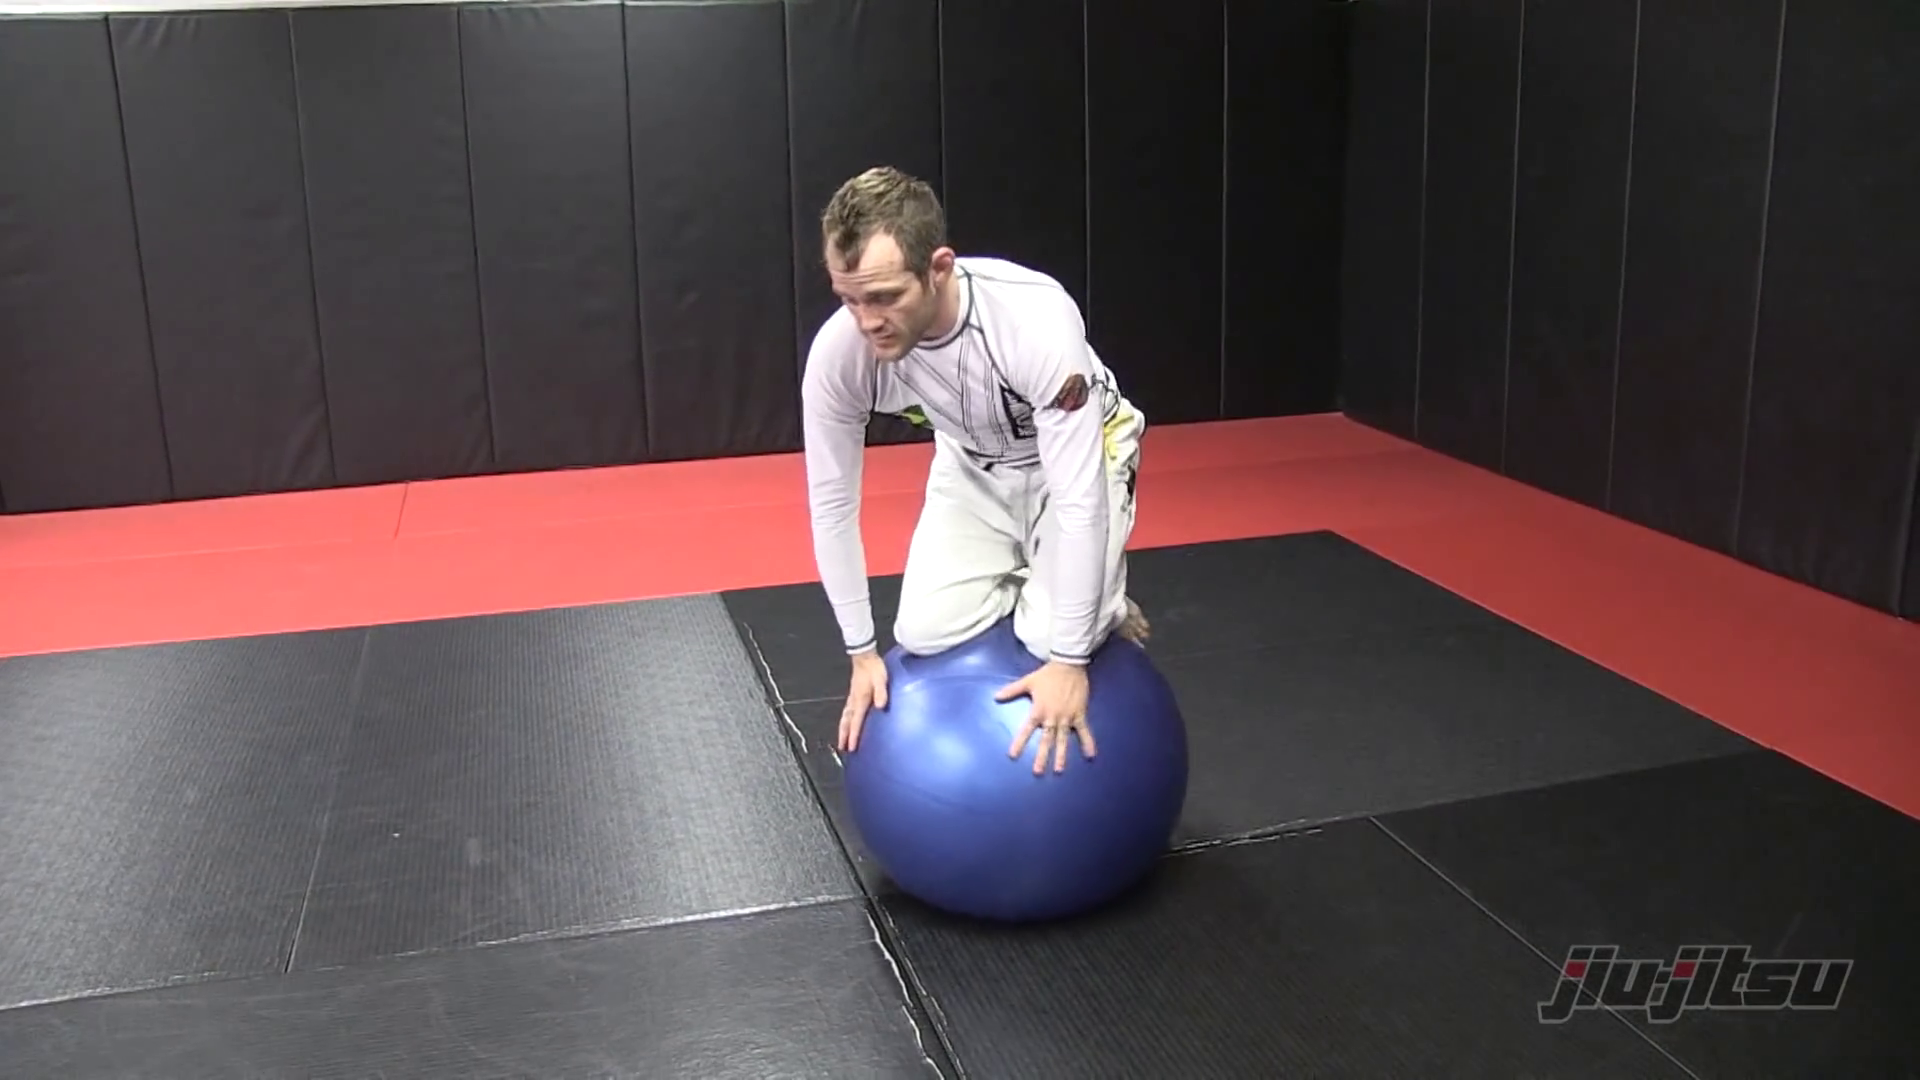yogaball: (811, 592, 1215, 949)
